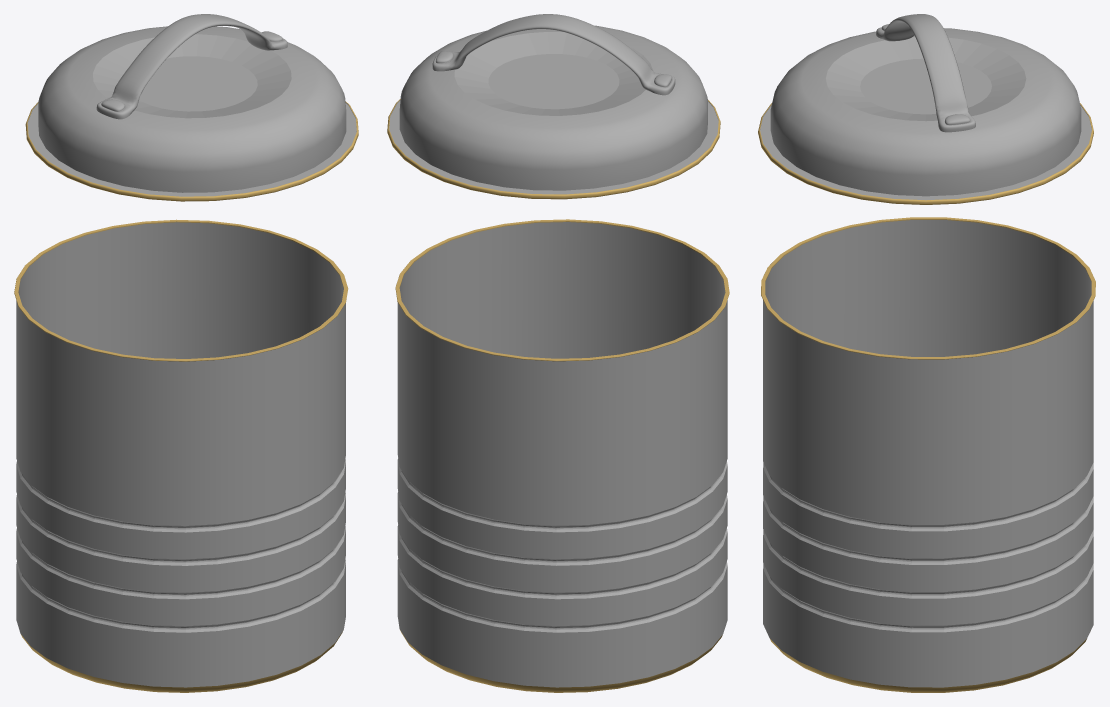
File: jar.fbx
3 renders of one model, left to right at view 1: azimuth 30°, elevation 25°; view 2: azimuth 150°, elevation 25°; view 3: azimuth 270°, elevation 25°, orthographic.
Visible parts, largest first — view 1: Cylinder002, Cap; view 2: Cylinder002, Cap; view 3: Cylinder002, Cap.
Boxes of the visible parts, box(x1,y1,x2,y2) form: Cylinder002: box(14, 219, 348, 692); Cap: box(25, 14, 358, 201); Cylinder002: box(395, 219, 729, 692); Cap: box(387, 14, 720, 199); Cylinder002: box(761, 217, 1095, 692); Cap: box(758, 14, 1093, 204).
Bounding box in the file's own units: 1670 × 3238 × 1627.
